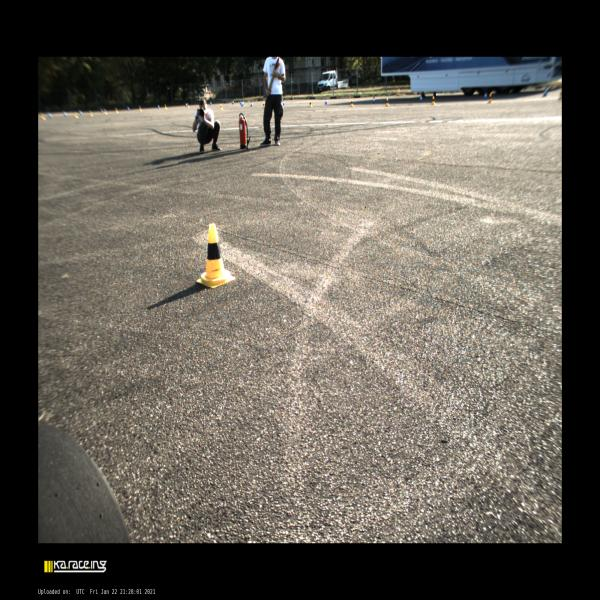blue_cone: (484, 92, 487, 100), (419, 95, 422, 102), (250, 101, 253, 107), (373, 96, 375, 103), (325, 98, 327, 105), (283, 100, 285, 106), (242, 102, 244, 106), (158, 105, 160, 109), (240, 100, 242, 104), (210, 102, 212, 105), (232, 101, 234, 104), (186, 103, 187, 107)
yellow_cone: (196, 223, 235, 288), (431, 96, 436, 105), (488, 93, 492, 104), (386, 98, 390, 106), (350, 99, 354, 107), (309, 100, 312, 107), (220, 104, 223, 110), (262, 102, 264, 108), (165, 105, 167, 109), (187, 104, 189, 108)
